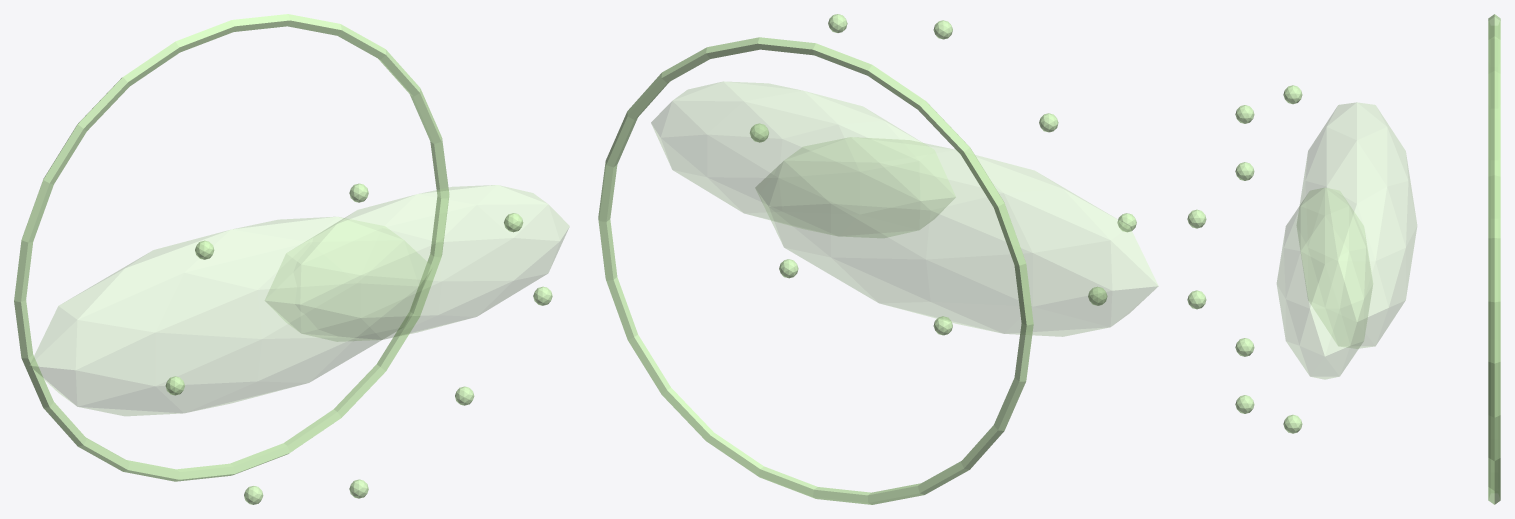
File: 04_atmosphere.glb
The picture shows the model from 3 angles, left to right: view 1: azimuth 30°, elevation 25°; view 2: azimuth 150°, elevation 25°; view 3: azimuth 270°, elevation 25°; orthographic projection. The views are drawn at different scales.
Parts seen in each view (by area): view 1: cloud_or_nebula_a, cloud_or_nebula_b, horizon_ring; view 2: cloud_or_nebula_a, cloud_or_nebula_b, horizon_ring; view 3: cloud_or_nebula_a, cloud_or_nebula_b, horizon_ring.
Boxes of the visible parts, x1=… form: cloud_or_nebula_a: x1=29, y1=217, x2=432, y2=415; cloud_or_nebula_b: x1=265, y1=185, x2=569, y2=341; horizon_ring: x1=14, y1=14, x2=449, y2=481; cloud_or_nebula_a: x1=755, y1=137, x2=1158, y2=336; cloud_or_nebula_b: x1=651, y1=81, x2=955, y2=237; horizon_ring: x1=598, y1=37, x2=1033, y2=504; cloud_or_nebula_a: x1=1297, y1=102, x2=1416, y2=348; cloud_or_nebula_b: x1=1277, y1=188, x2=1372, y2=379; horizon_ring: x1=1488, y1=14, x2=1500, y2=504.
Size of the model in its own units: 1.85 by 1.54 by 0.979.
